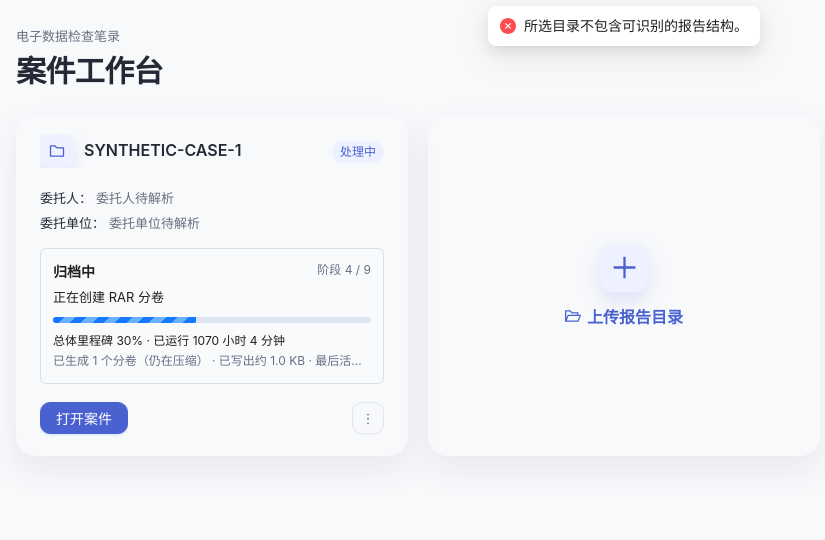
Test case: CaseWorkbenchPage › renders the backend card summary through the existing task polling source
Expected: the progress indicator named "任务正在运行：正在创建 RAR 分卷" is shown, [53,317,371,323]
Expected: the button "打开案件" is shown, [40,402,128,434]
Click the button named "更多操作" at {"x": 368, "y": 418}, box [352,402,384,434]
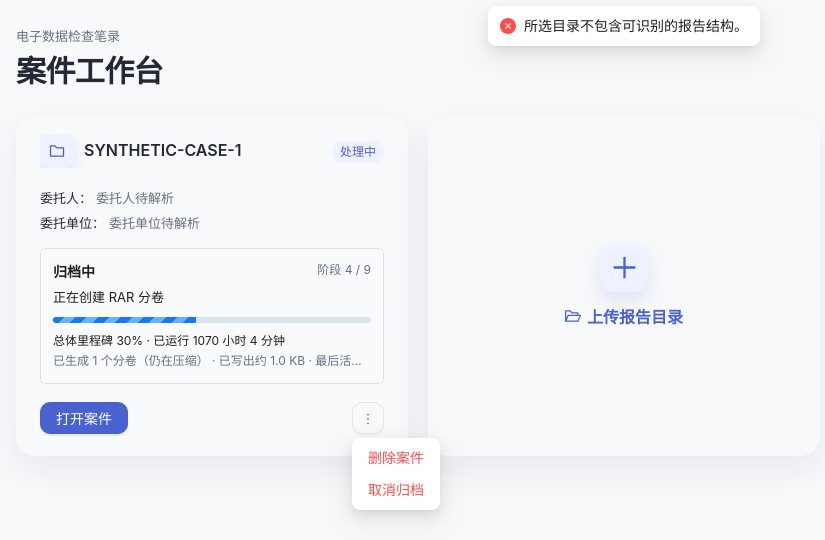
Expected: the menu item "取消归档" is shown, [368,481,424,498]
